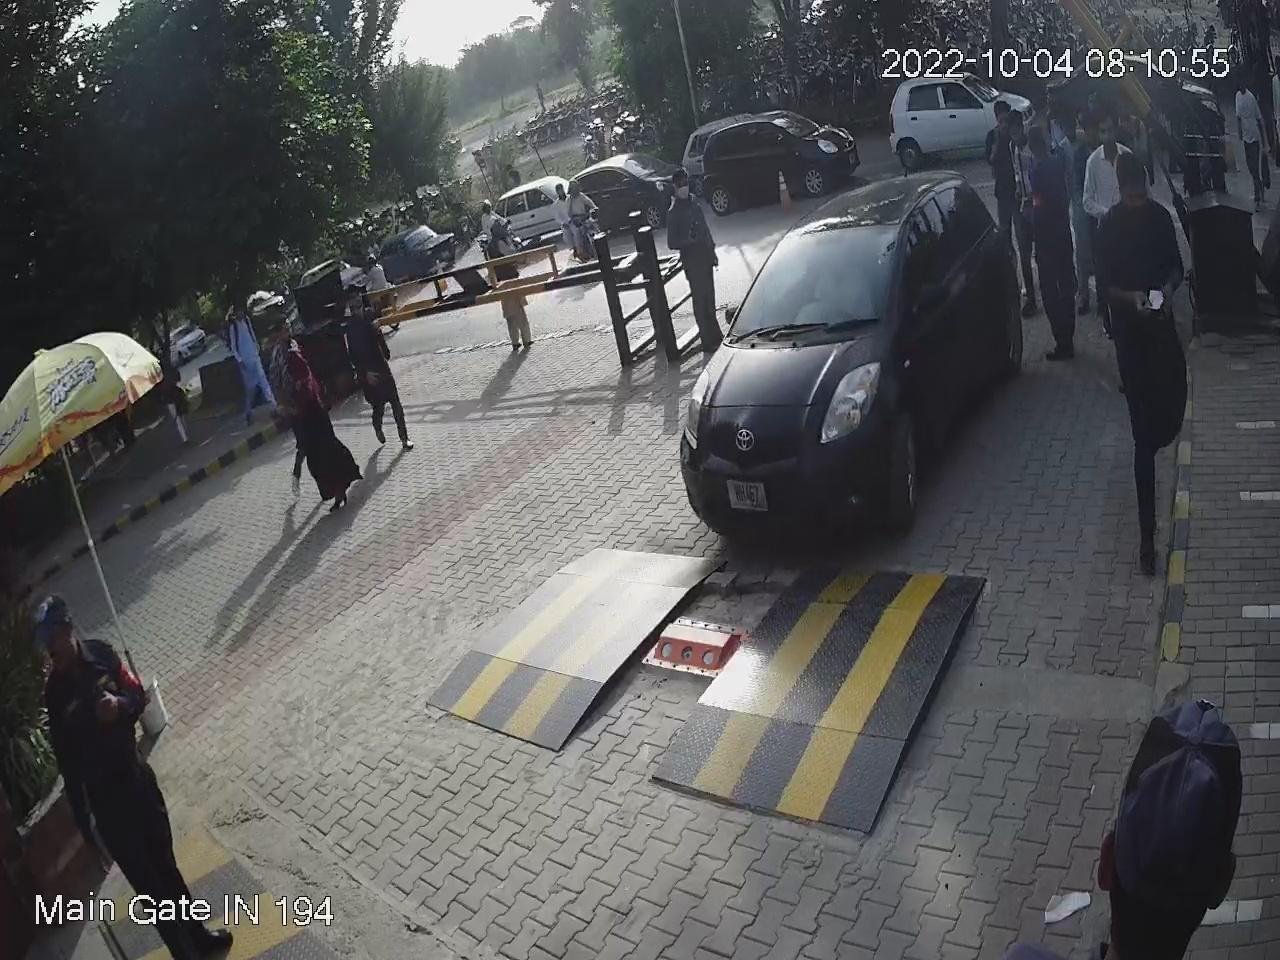windshield: (718, 218, 905, 345)
